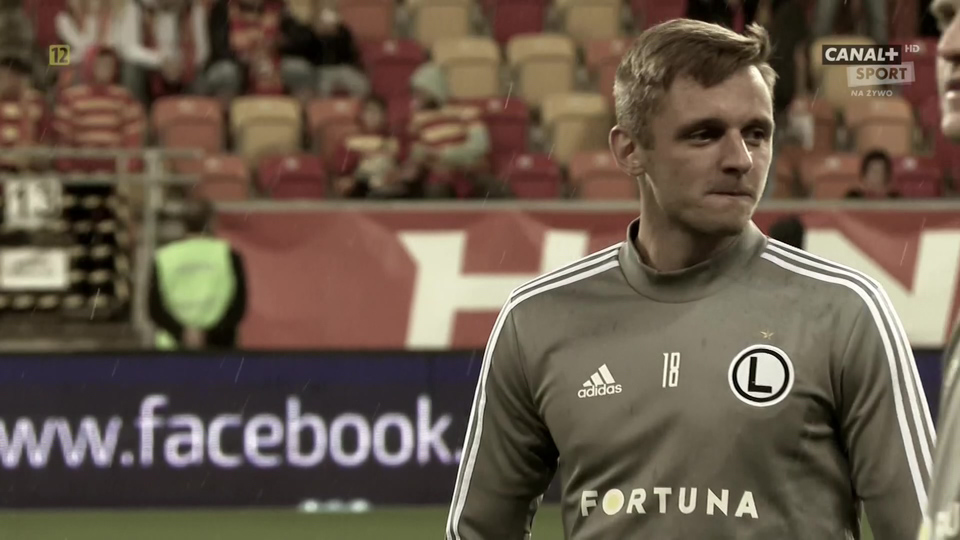Adidas: (575, 363, 624, 399)
